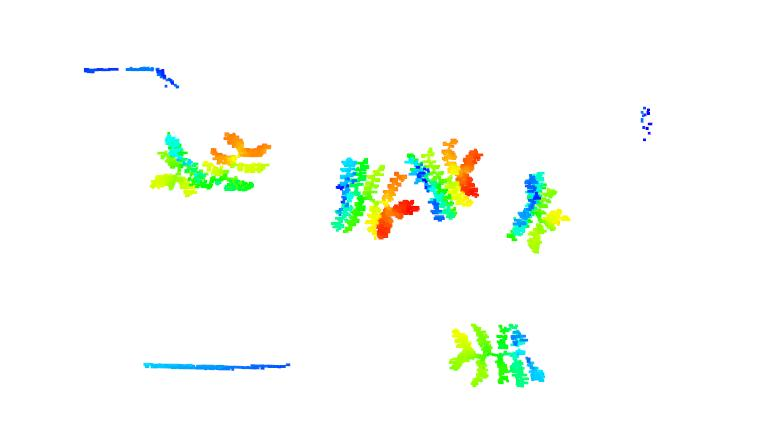chickpea: (329, 156, 420, 243), (402, 137, 483, 226), (446, 322, 546, 391), (506, 171, 572, 258), (205, 131, 273, 195), (147, 131, 207, 198)
